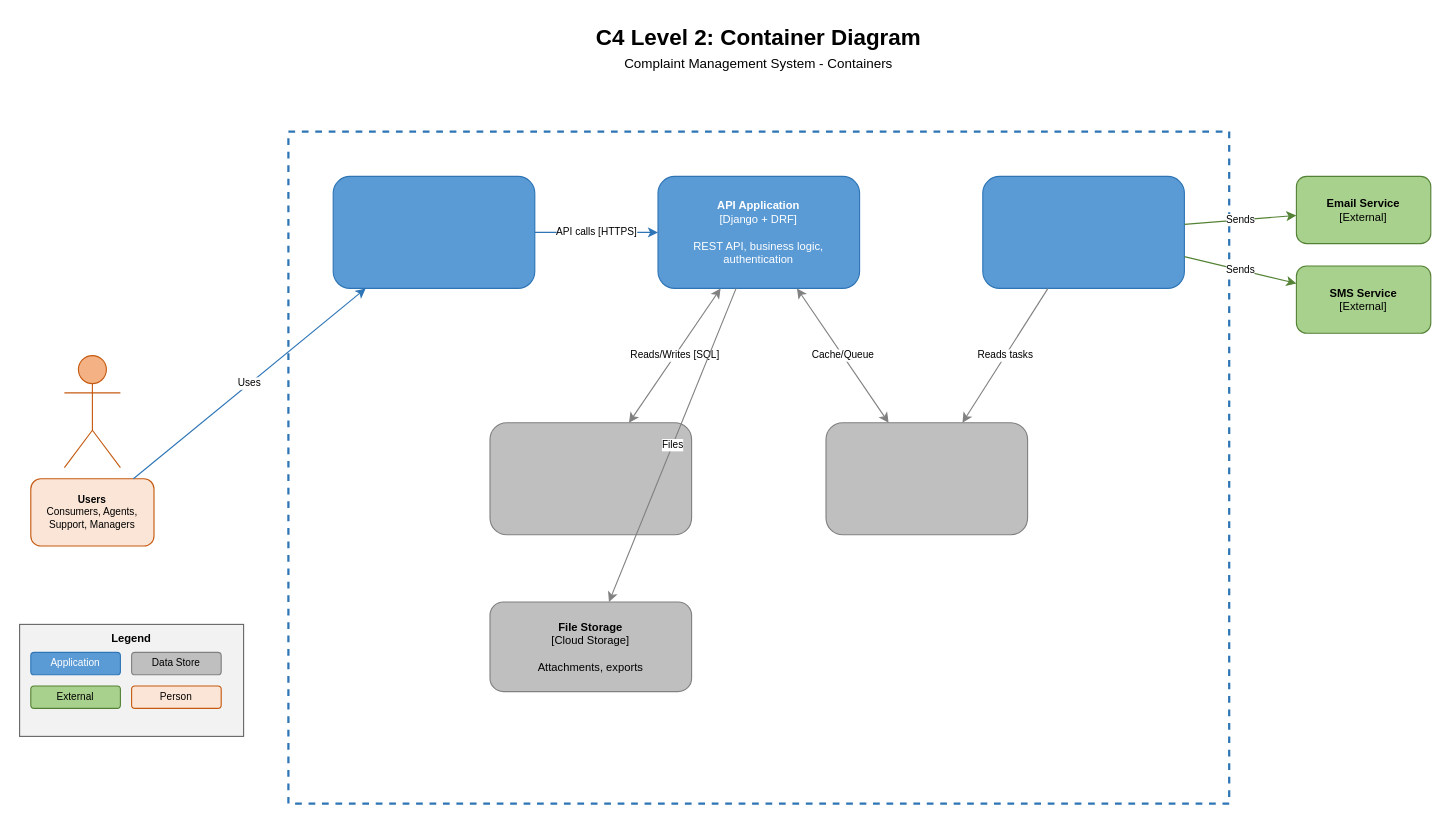
Some shapes in this 1450 by 823 pixel diagram are drawn without their labels. Here are the shapes that lost their labels. From the top down, the box of each, then its label:
(332, 175, 535, 288): Web Application [React + Material-UI] User interface for all users
(982, 175, 1184, 288): Background Worker [Celery] Sends notifications
(489, 422, 692, 535): Database [PostgreSQL] Stores users, problems, organizations (multi-tenant)
(287, 130, 1230, 804): CMS System Boundary
(825, 422, 1028, 535): Cache / Message Queue [Redis] Sessions, cache, task queue
